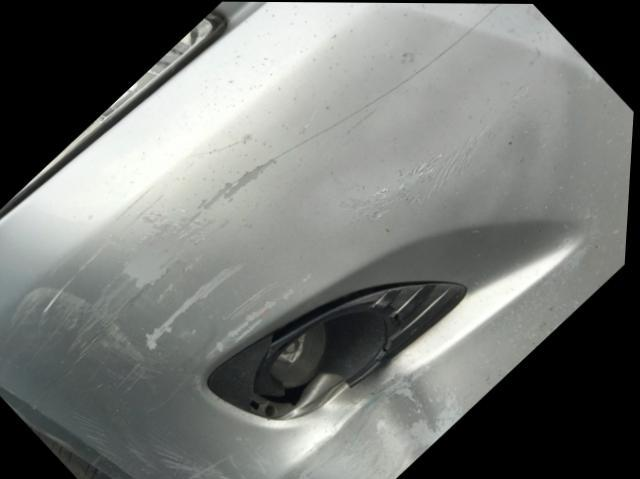dent: (293, 365, 457, 479)
scratch: (15, 147, 311, 479), (341, 111, 512, 219)
